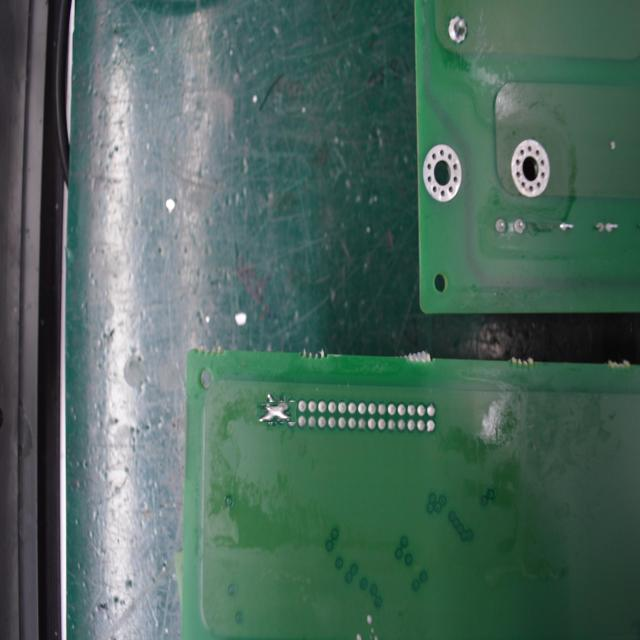Short_circuit: (261, 396, 292, 427)
